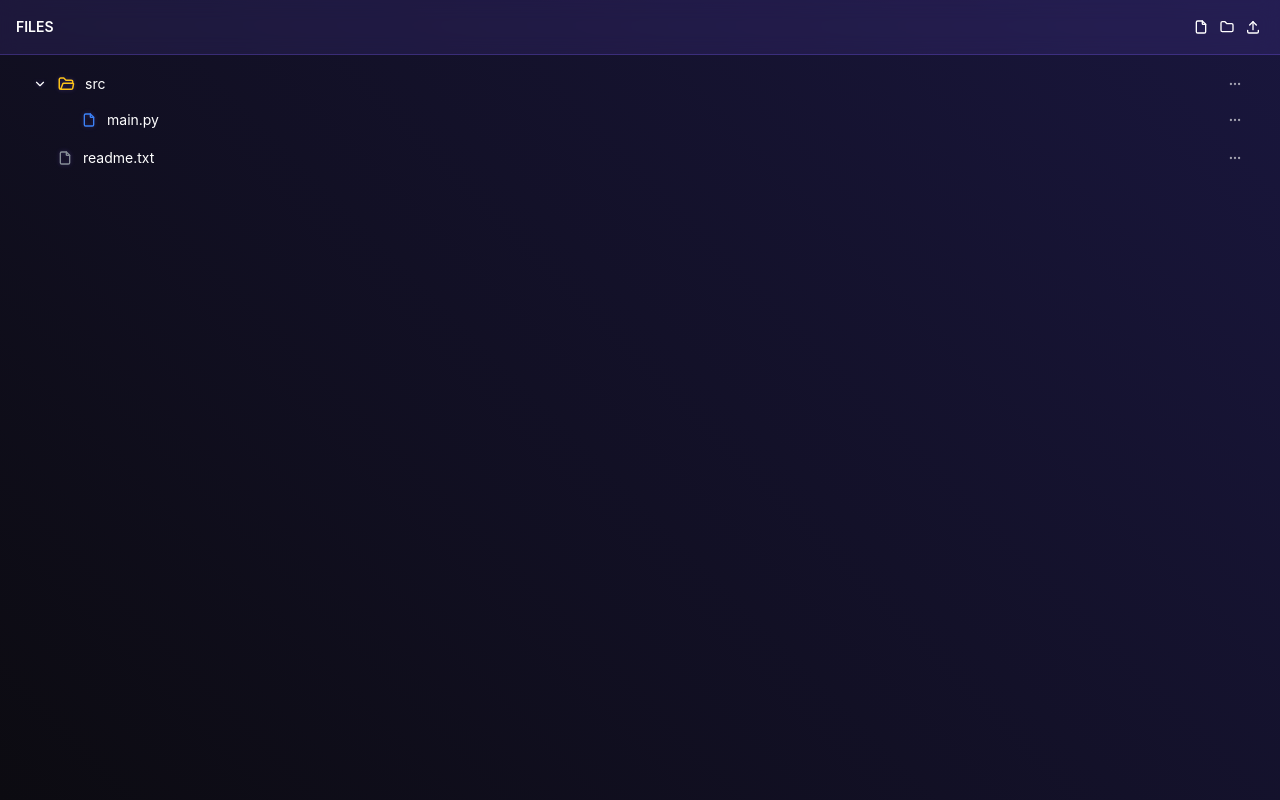
FileExplorer Component tests › should open Create Folder modal when New Folder header button clicked
This screenshot has width=1280, height=800.
Click the button titled "New Folder": (1227, 27) [1216,16,1238,38]
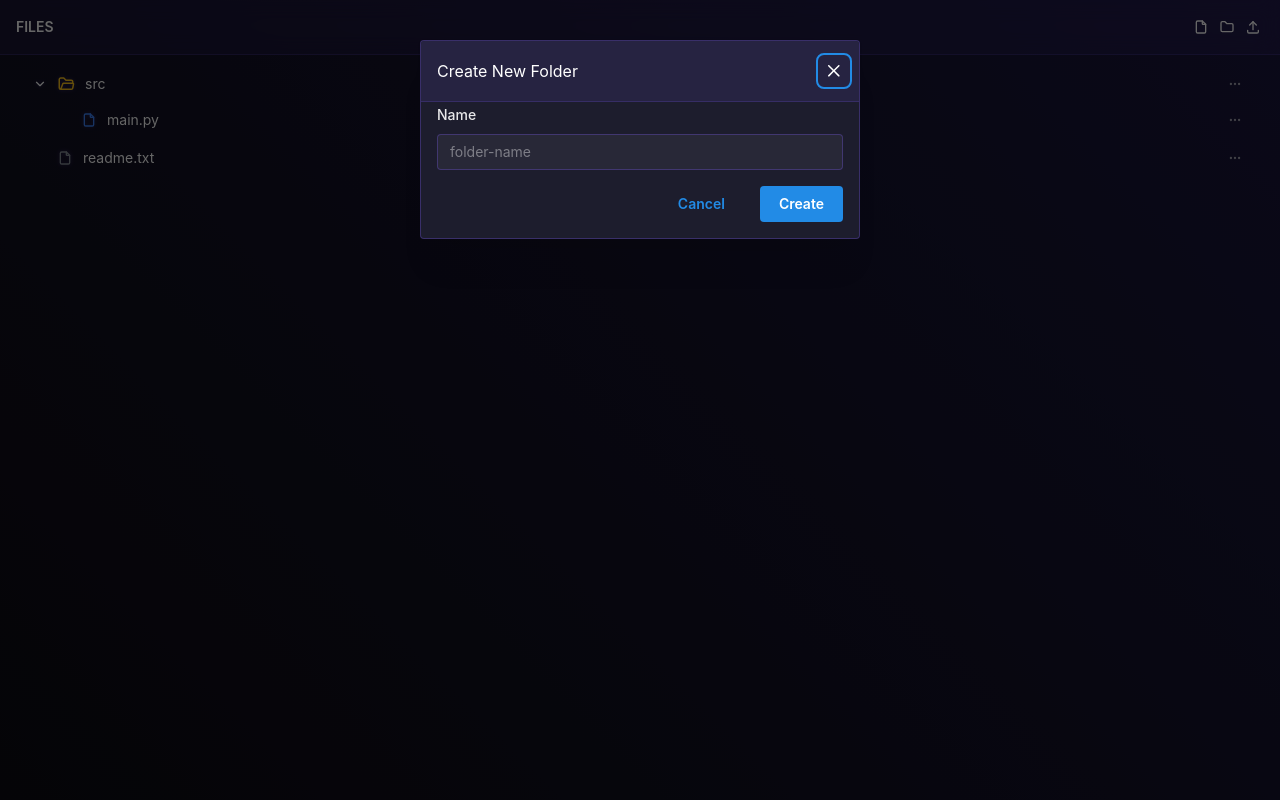
Check: the heading "Create New Folder" is shown, box [437,63,578,79]
